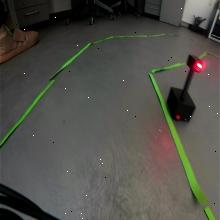red: (187, 53, 204, 73)
